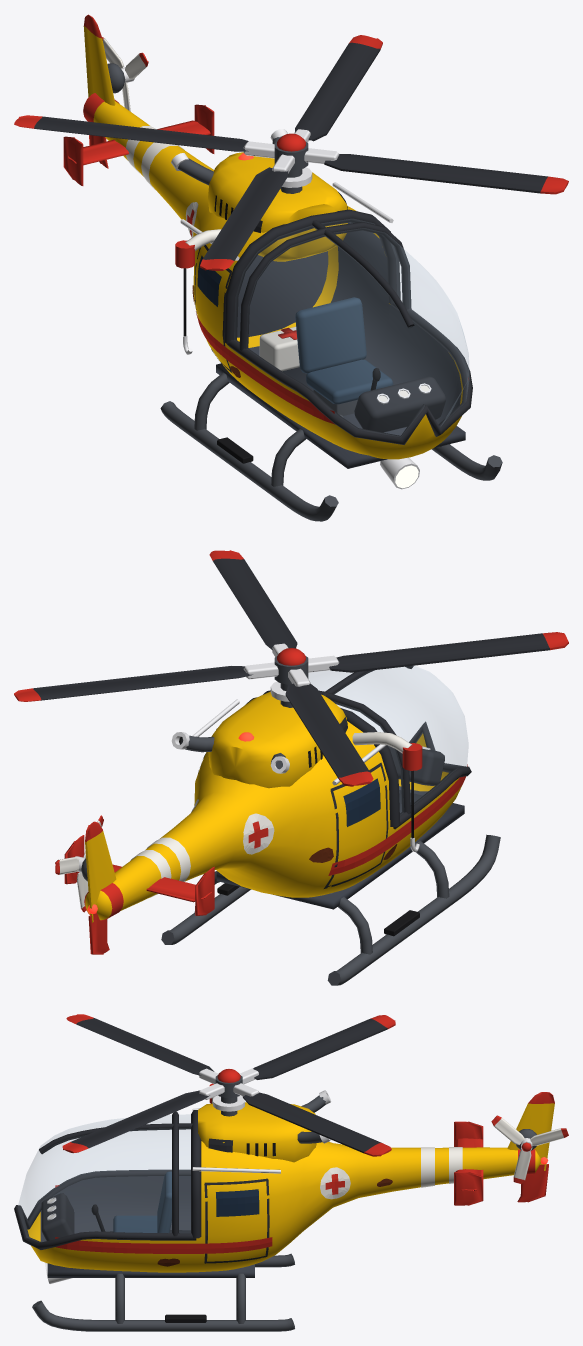
File: helicopter.glb
The picture shows the model from 3 angles, top to bottom: view 1: azimuth 30°, elevation 25°; view 2: azimuth 150°, elevation 25°; view 3: azimuth 270°, elevation 25°; orthographic projection. The views are drawn at different scales.
Parts seen in each view (by area): view 1: Body, Rotor, TailRotor; view 2: Body, Rotor, TailRotor; view 3: Body, Rotor, TailRotor.
Boxes of the visible parts, left/top/right/bottom form: Body: left=63, top=14, right=502, bottom=521; Rotor: left=14, top=35, right=568, bottom=270; TailRotor: left=102, top=37, right=148, bottom=111; Body: left=64, top=665, right=500, bottom=985; Rotor: left=14, top=550, right=568, bottom=786; TailRotor: left=55, top=815, right=103, bottom=912; Body: left=14, top=1083, right=554, bottom=1331; Rotor: left=62, top=1014, right=395, bottom=1156; TailRotor: left=491, top=1115, right=568, bottom=1184.
Bounding box in the file's own units: 1.92 × 1.46 × 3.21.
